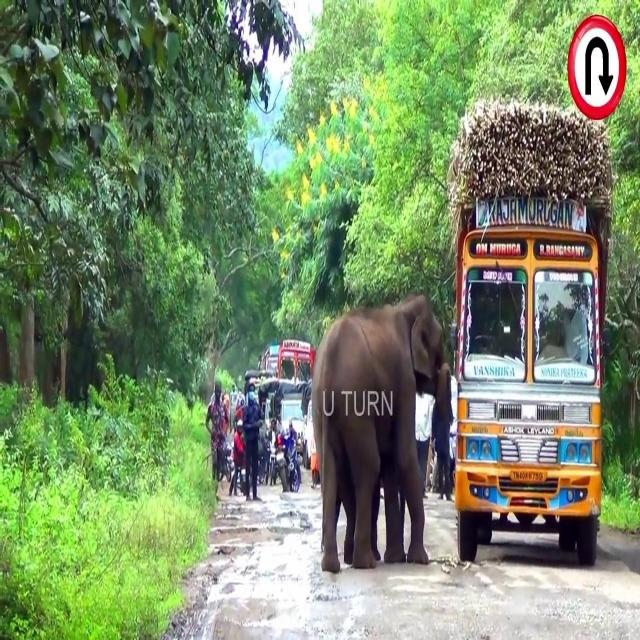Elephant: (310, 292, 452, 574)
